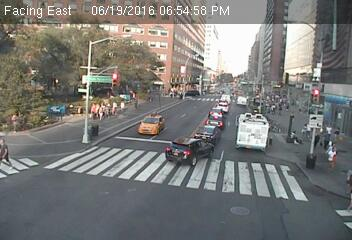neg: (207, 129, 232, 163), (252, 102, 271, 127), (185, 63, 203, 88), (309, 44, 325, 66)
pos: (320, 144, 342, 173), (337, 164, 351, 198), (7, 108, 22, 129), (116, 95, 131, 116), (85, 98, 100, 117), (109, 99, 122, 116)
